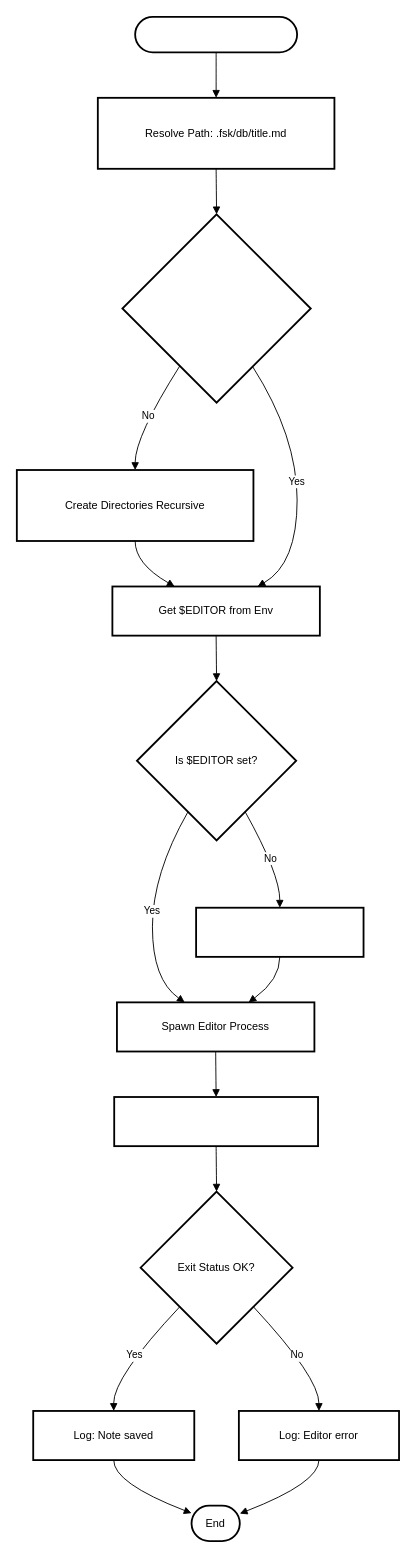
This 415x1557 diagram has some shape labels left out. The shapes that lost their labels are listed below. From the top down, each one's centre as x and y in pixels, then its label:
At point 216,34: "Start Write Command".
At point 216,308: "Parent Folder Exists?".
At point 279,931: "Fallback to 'nano'".
At point 215,1121: "Wait for Editor to Close".
